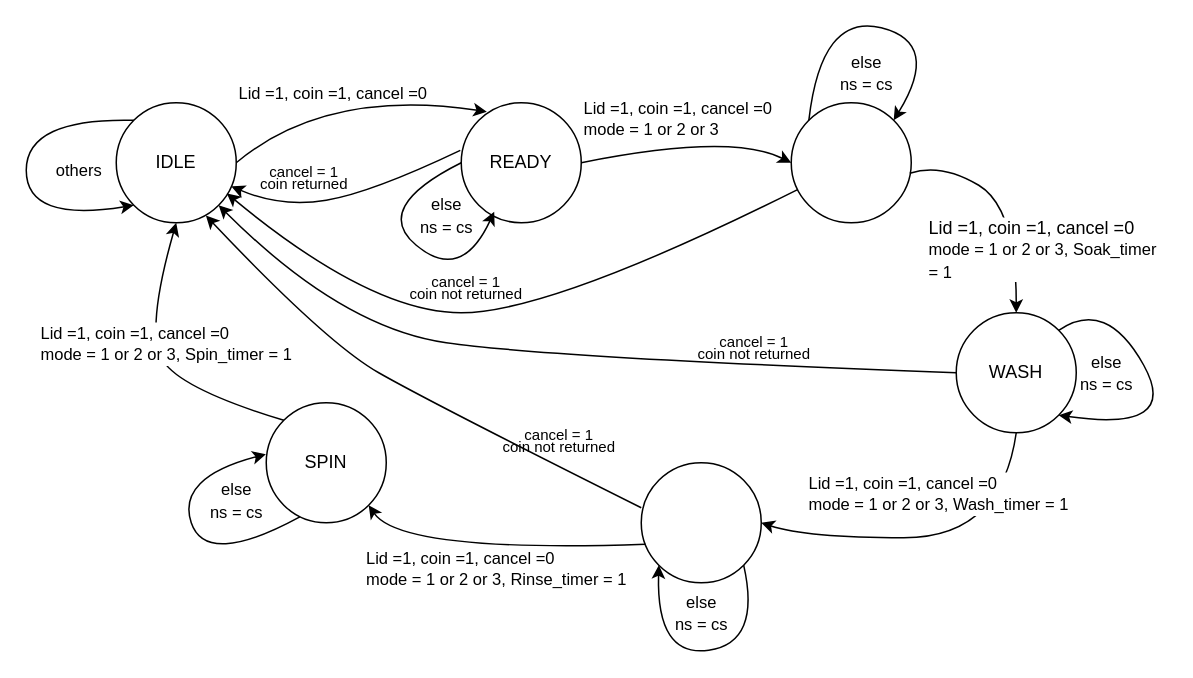
Some shapes in this 1193 by 678 pixel diagram are drawn without their labels. The shapes that lost their labels are listed below. From the top down, each one's centre as x and y in pixels, then its label:
At point (850, 162): "SOAK".
At point (700, 522): "RINSE".
